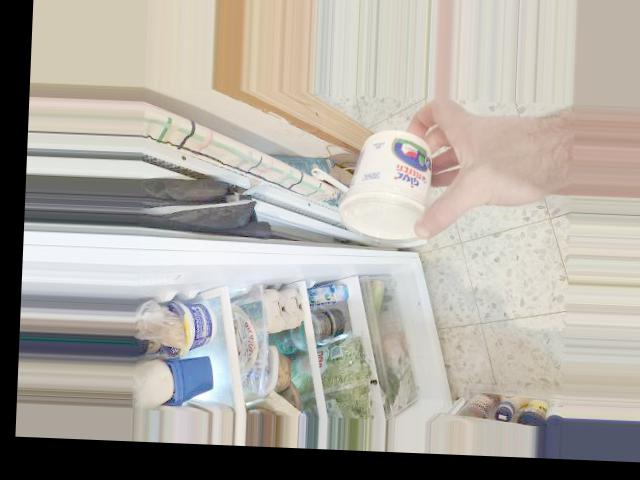cotage: (335, 124, 450, 246)
